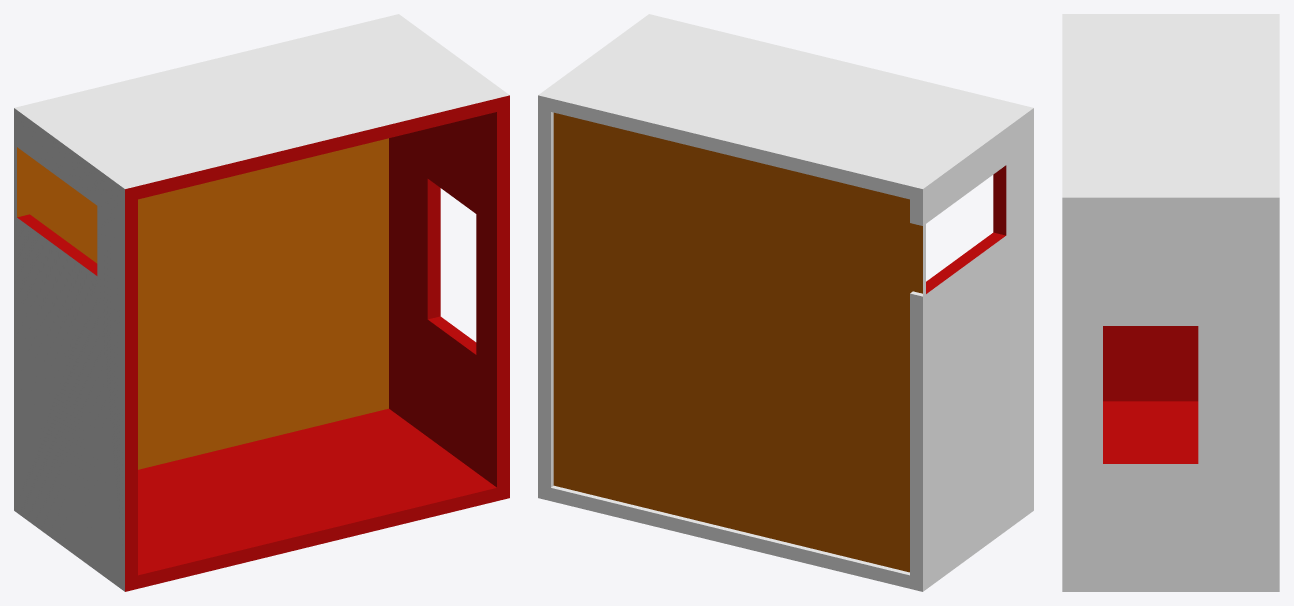
The model's file is house.fbx.
3 views of the same model, side by side, from view 1: azimuth 30°, elevation 25°; view 2: azimuth 150°, elevation 25°; view 3: azimuth 270°, elevation 25° (orthographic). The views are drawn at different scales.
Visible parts, largest first — view 1: Model; view 2: Model; view 3: Model.
Part boxes in pixels (x1,y1,x2,y2): Model: (14, 14, 509, 591); Model: (538, 14, 1033, 591); Model: (1062, 14, 1279, 591).
Bounding box in the file's own units: 3 × 3 × 1.5.
